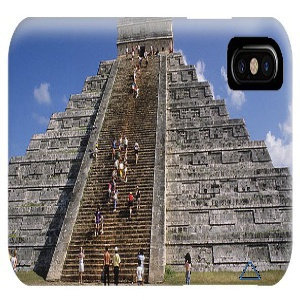triangle: (238, 260, 262, 281)
